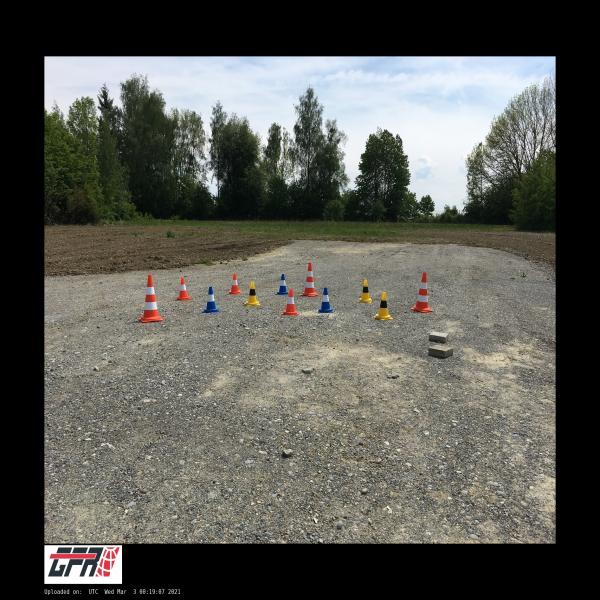blue_cone: (202, 287, 220, 313), (318, 287, 333, 313), (276, 274, 289, 294)
large_orange_cone: (138, 276, 163, 322), (411, 272, 433, 313), (301, 262, 318, 297)
orange_cone: (281, 289, 299, 316), (176, 278, 192, 300), (227, 274, 241, 294)
yellow_cone: (373, 292, 393, 320), (245, 282, 260, 306), (358, 279, 372, 303)
